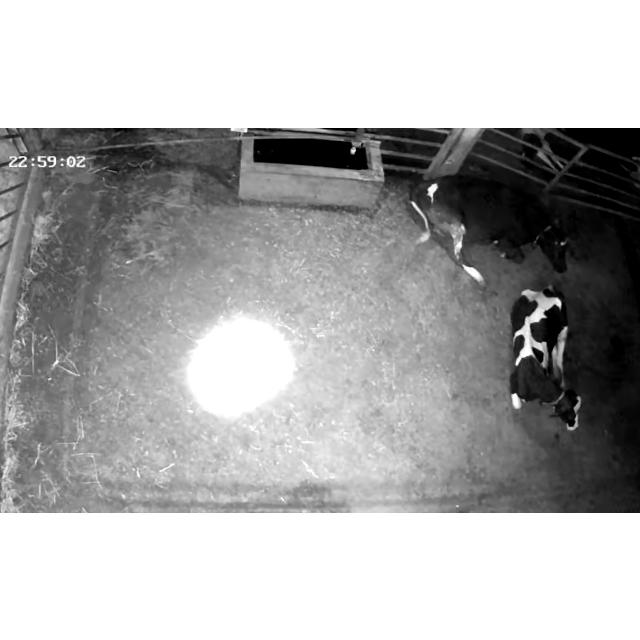lay: (402, 167, 580, 285), (498, 272, 600, 448)
